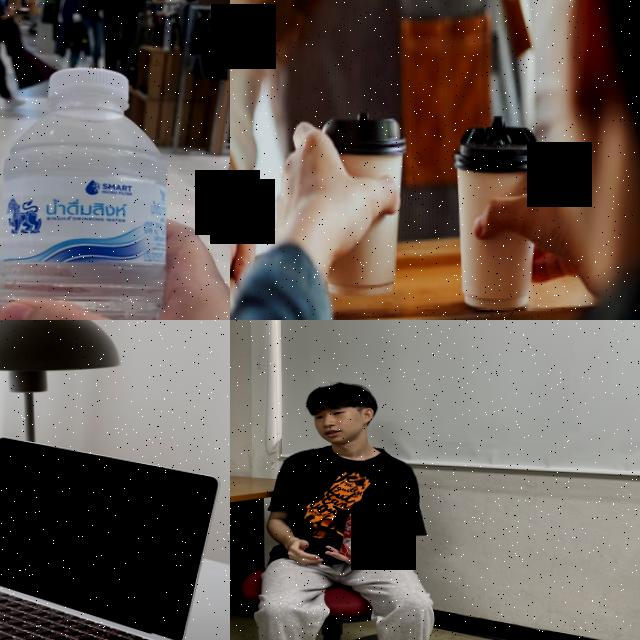bottle: (0, 64, 175, 320)
can: (339, 512, 370, 558)
cup: (314, 106, 408, 300), (451, 112, 542, 310)
